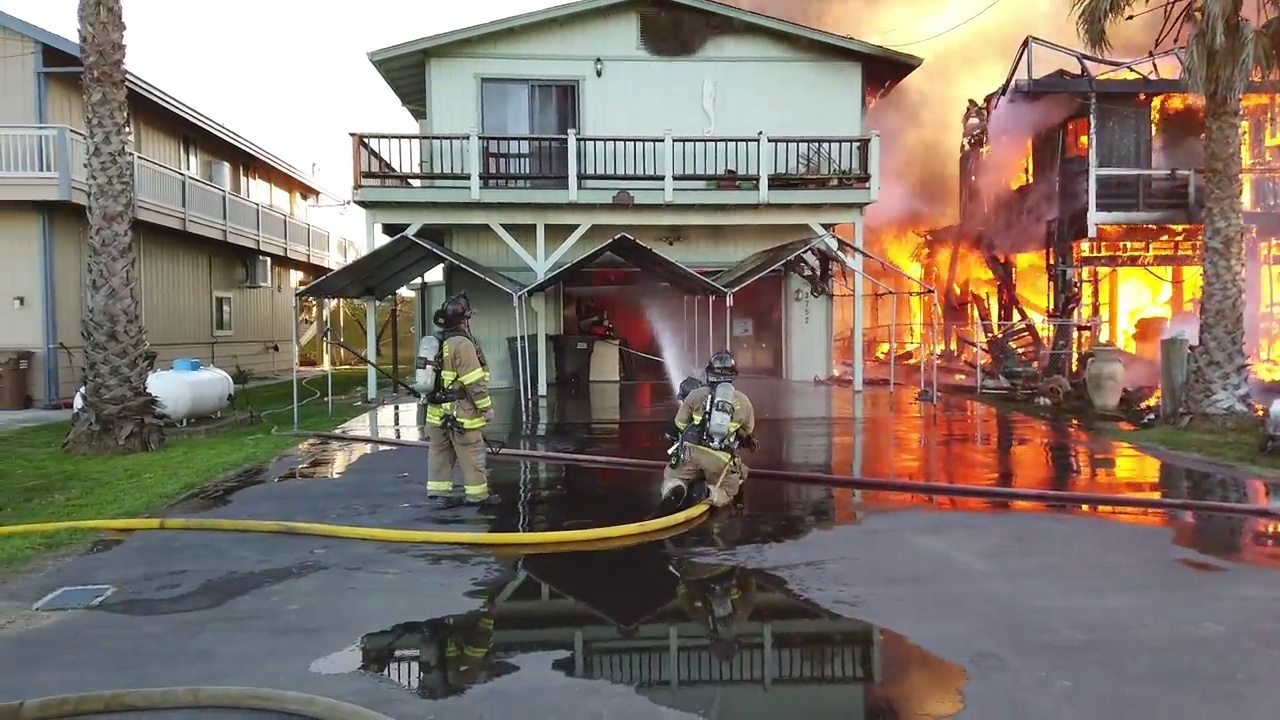fire: (879, 209, 1280, 478), (1142, 88, 1196, 135), (599, 277, 629, 338), (1008, 135, 1038, 187), (1096, 62, 1176, 80), (627, 310, 650, 348), (1073, 133, 1090, 152)
smoke: (854, 1, 968, 238), (974, 1, 1280, 64), (991, 91, 1084, 131), (764, 2, 854, 32), (970, 141, 1005, 197), (1149, 136, 1204, 167), (1002, 192, 1058, 222)
